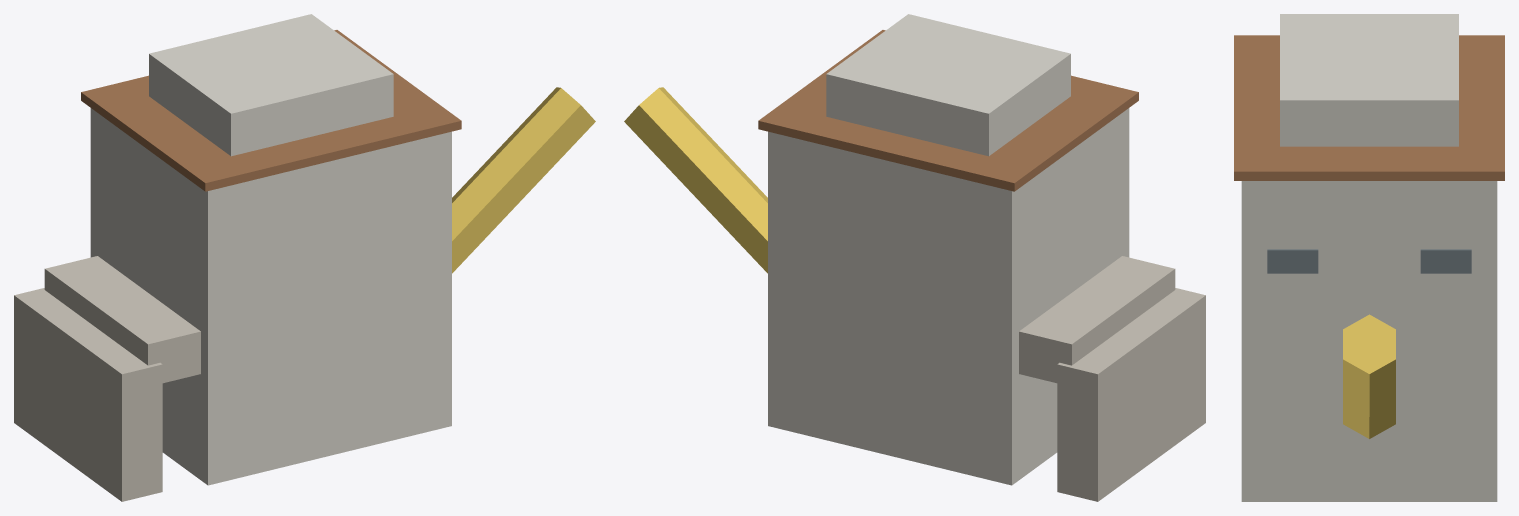
The model's file is PrimaryCrusher.glb.
3 renders of one model, left to right at view 1: azimuth 30°, elevation 25°; view 2: azimuth 150°, elevation 25°; view 3: azimuth 270°, elevation 25°, orthographic. The views are drawn at different scales.
Visible parts, largest first — view 1: Crusher building, Upper floor, Ramp wall, Roof, Limb.066, Dump pocket; view 2: Crusher building, Upper floor, Ramp wall, Roof, Limb.066, Dump pocket; view 3: Crusher building, Upper floor, Roof, Limb.066, Window band, Window band.001.
Boxes of the visible parts, x1,y1,x2,y2 form: Crusher building: [90, 108, 451, 485]; Upper floor: [149, 14, 393, 156]; Ramp wall: [14, 288, 162, 501]; Roof: [81, 30, 461, 191]; Limb.066: [452, 87, 595, 273]; Dump pocket: [44, 256, 200, 383]; Crusher building: [768, 108, 1129, 485]; Upper floor: [826, 14, 1070, 156]; Ramp wall: [1057, 288, 1205, 501]; Roof: [758, 30, 1138, 191]; Limb.066: [624, 87, 767, 273]; Dump pocket: [1019, 256, 1175, 383]; Crusher building: [1241, 181, 1497, 501]; Upper floor: [1280, 14, 1458, 146]; Roof: [1234, 35, 1504, 180]; Limb.066: [1343, 314, 1395, 438]; Window band: [1267, 249, 1318, 273]; Window band.001: [1420, 249, 1471, 273].
Size of the model in its own units: 12.87 by 8.2 by 5.3.
